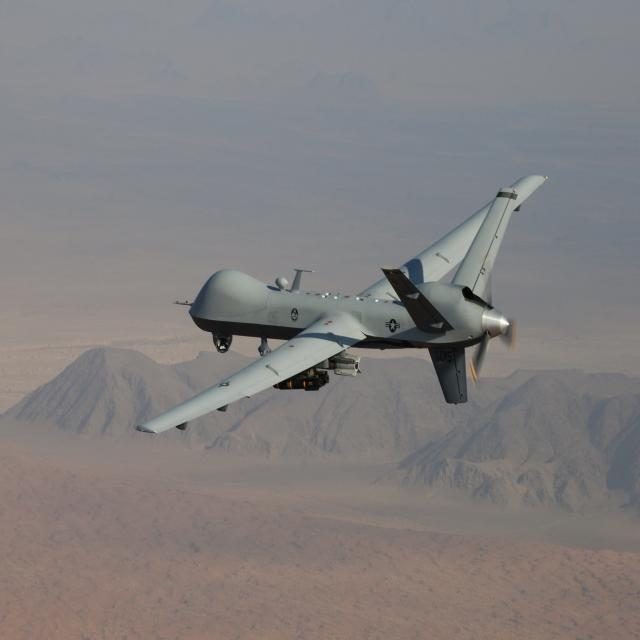MQ9: (134, 115, 587, 501)
